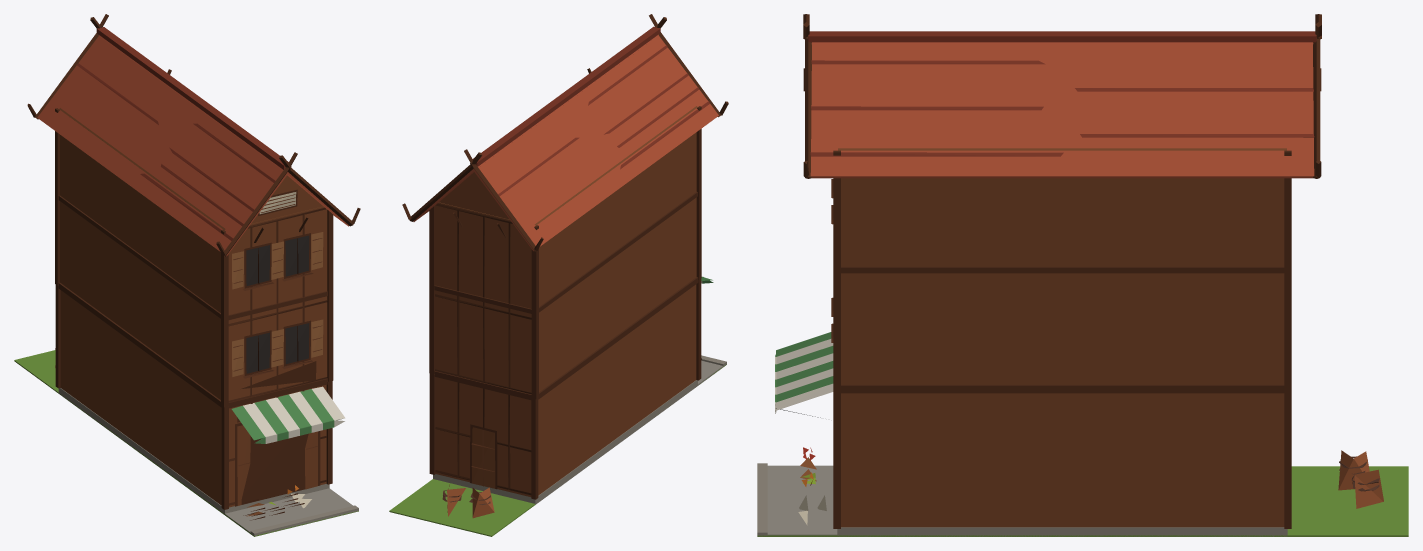
The model's file is bay2_mid2.glb.
The picture shows the model from 3 angles, left to right: view 1: azimuth 30°, elevation 25°; view 2: azimuth 150°, elevation 25°; view 3: azimuth 270°, elevation 25°; orthographic projection. The views are drawn at different scales.
Parts seen in each view (by area): view 1: body, windows; view 2: body; view 3: body.
Boxes of the visible parts, x1=… form: body: x1=14, y1=14, x2=360, y2=536; windows: x1=246, y1=235, x2=309, y2=373; body: x1=389, y1=14, x2=728, y2=536; body: x1=757, y1=14, x2=1408, y2=536.
Bounding box in the file's own units: 5.52 × 13.07 × 15.9.
